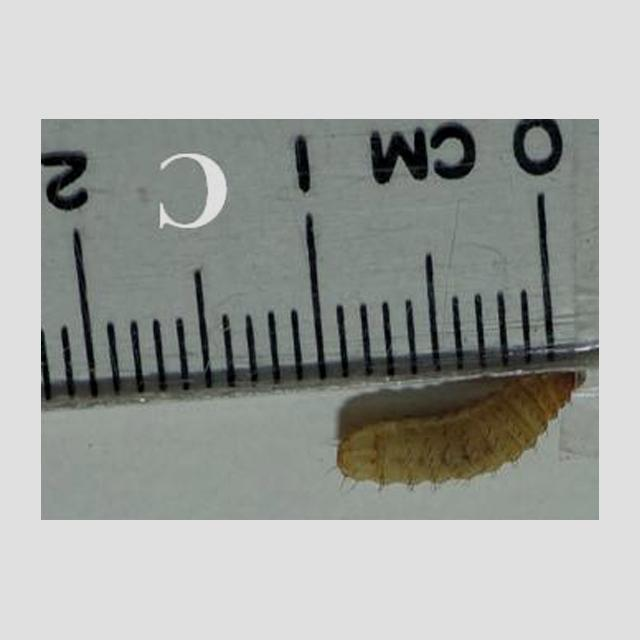Maggot: (336, 372, 591, 486)
